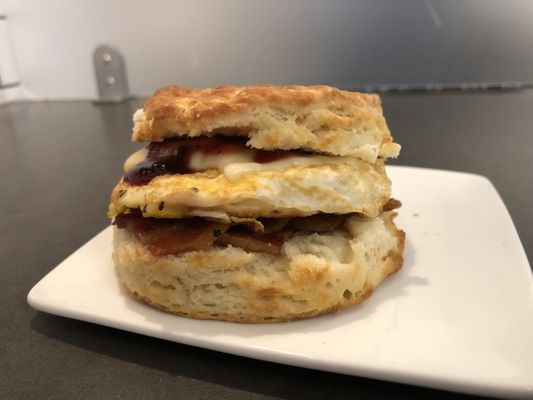soup: (107, 82, 409, 323)
